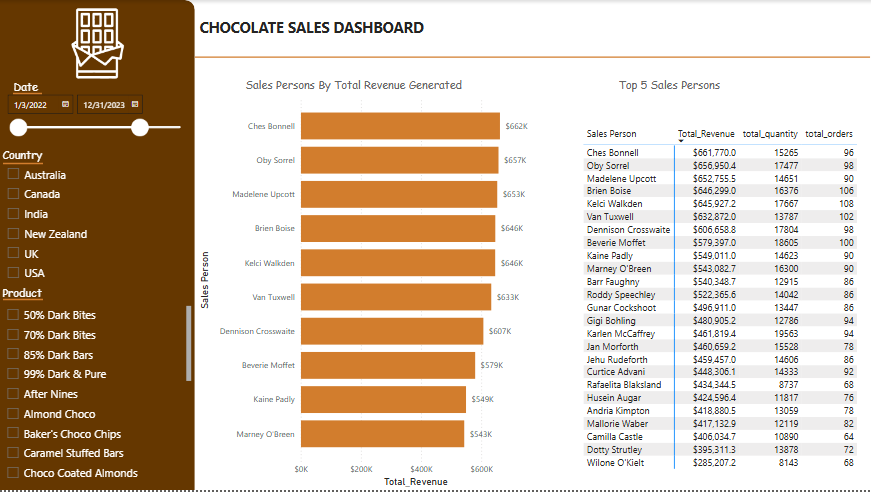

The dashboard page shown, as its layout file describes it:
{"tool":"powerbi","page":{"name":"Page 5","canvas":[1280,720],"ordinal":4},"visuals":[{"type":"clusteredBarChart","fields":{"Y":["Measure_Table.Total_Revenue"],"Category":["DataTable.Sales Person"]},"box":[289.5,132.2,514.3,587.8],"z":0},{"type":"shape","box":[0,0,287.7,719.8],"z":1000},{"type":"shape","box":[287.7,0,992.3,167.9],"z":2000},{"type":"textbox","box":[289,20.6,747.4,49.5],"z":3000},{"type":"slicer","fields":{"Values":["calendar_table.Date"]},"box":[0,129.3,288,101.4],"z":4000},{"type":"slicer","fields":{"Values":["DataTable.Country"]},"box":[0,236.6,288,186.6],"z":5000},{"type":"slicer","fields":{"Values":["DataTable.Product"]},"box":[0,443.2,287.7,276.6],"z":6000},{"type":"textbox","box":[15.9,109.9,83.8,39.7],"z":7000},{"type":"textbox","box":[0,210.1,83.8,39.7],"z":8000},{"type":"textbox","box":[0,412.9,83.8,39.7],"z":9000},{"type":"shape","box":[5.9,210.1,58.8,60.2],"z":10000},{"type":"shape","box":[5.9,410,58.8,60.2],"z":11000},{"type":"shape","box":[20.6,107.3,42.6,60.2],"z":12000},{"type":"textbox","box":[357.1,107.3,338,73.5],"z":13000},{"type":"textbox","box":[905.1,107.3,338,73.5],"z":14000},{"type":"pivotTable","fields":{"Rows":["DataTable.Sales Person"],"Values":["Measure_Table.Total_Revenue","Measure_Table.total_quantity","Measure_Table.total_orders"]},"box":[853.7,180.7,426.1,539.3],"z":15000},{"type":"image","box":[0,8.8,288,110.2],"z":15001}]}

Visuals, with their boxes in screenshot pixels (x1, y1, x2, y2), scaled from the page's 1280x720 canvas onto the 871x492 screenshot:
clusteredBarChart - Measure_Table.Total_Revenue x DataTable.Sales Person: (197, 90, 547, 491)
shape: (0, 0, 196, 491)
shape: (196, 0, 870, 115)
textbox: (197, 14, 705, 48)
slicer - calendar_table.Date: (0, 88, 196, 158)
slicer - DataTable.Country: (0, 162, 196, 289)
slicer - DataTable.Product: (0, 303, 196, 491)
textbox: (11, 75, 68, 102)
textbox: (0, 144, 57, 171)
textbox: (0, 282, 57, 309)
shape: (4, 144, 44, 185)
shape: (4, 280, 44, 321)
shape: (14, 73, 43, 114)
textbox: (243, 73, 473, 124)
textbox: (616, 73, 846, 124)
pivotTable - DataTable.Sales Person x Measure_Table.Total_Revenue: (581, 123, 870, 491)
image: (0, 6, 196, 81)
